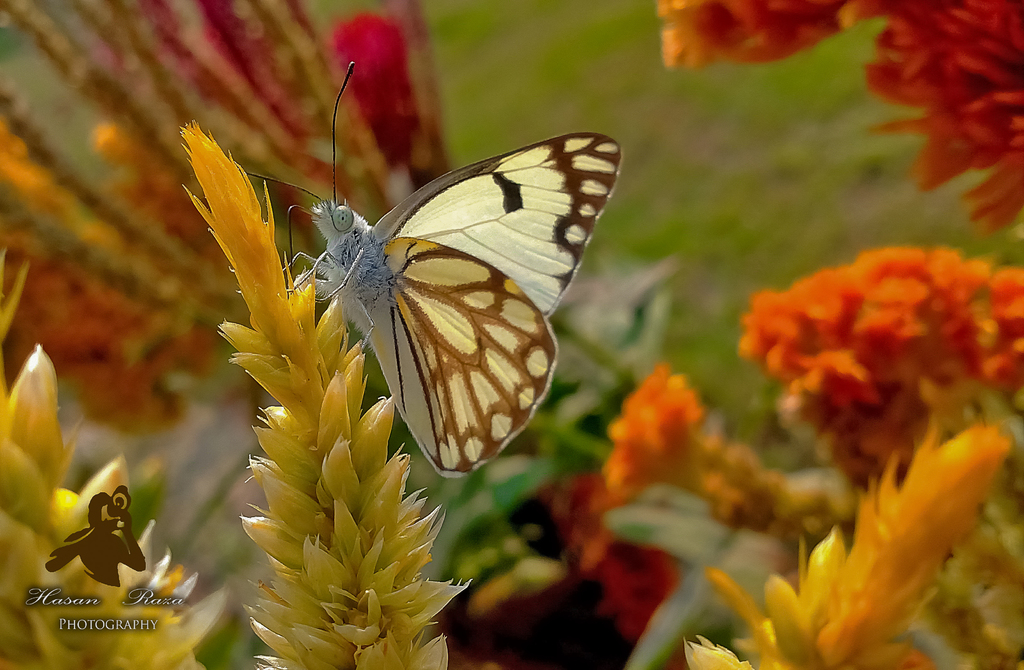Butterfly: (241, 99, 621, 466)
